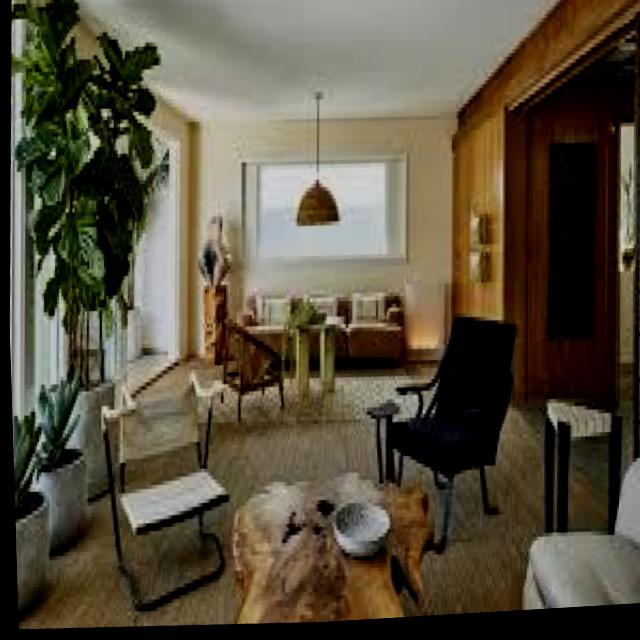noobs: (217, 367, 427, 518), (424, 561, 518, 621)
obs: (11, 2, 131, 610), (366, 317, 515, 559), (225, 475, 433, 627), (97, 379, 224, 622), (518, 454, 640, 617), (235, 296, 401, 375), (535, 415, 618, 564), (219, 318, 285, 424), (284, 312, 341, 398), (197, 221, 229, 372)
semobs: (14, 501, 224, 623), (438, 513, 534, 560)
